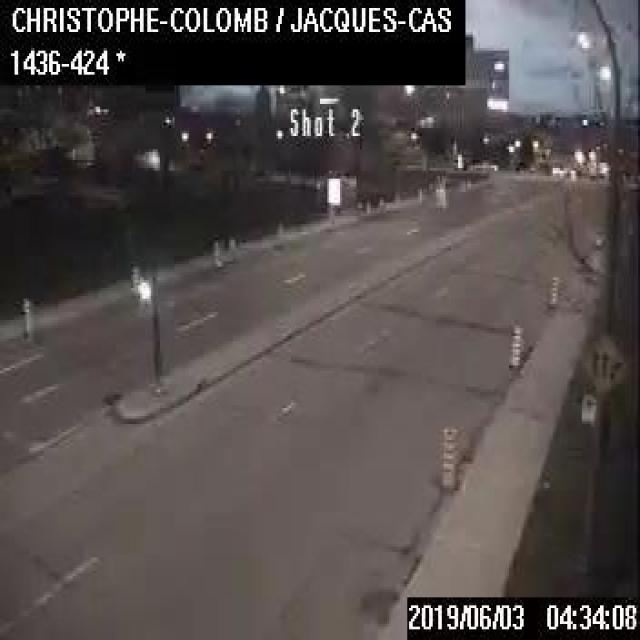construction: (437, 425, 455, 486), (505, 317, 522, 368), (18, 296, 29, 339), (547, 272, 558, 309), (130, 264, 140, 296), (274, 220, 282, 246), (212, 240, 220, 265), (327, 211, 335, 224)
